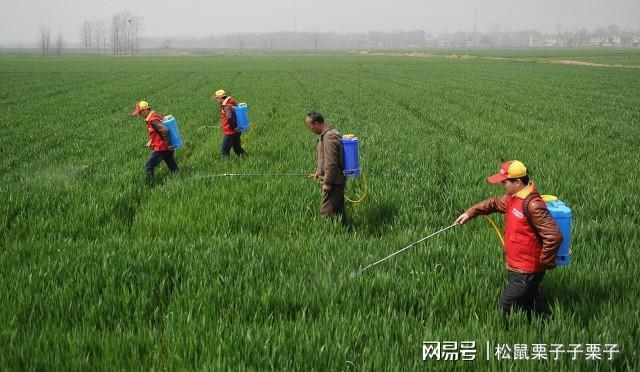berrl: (542, 195, 573, 269), (340, 133, 361, 176), (162, 112, 181, 150), (235, 102, 251, 133)
